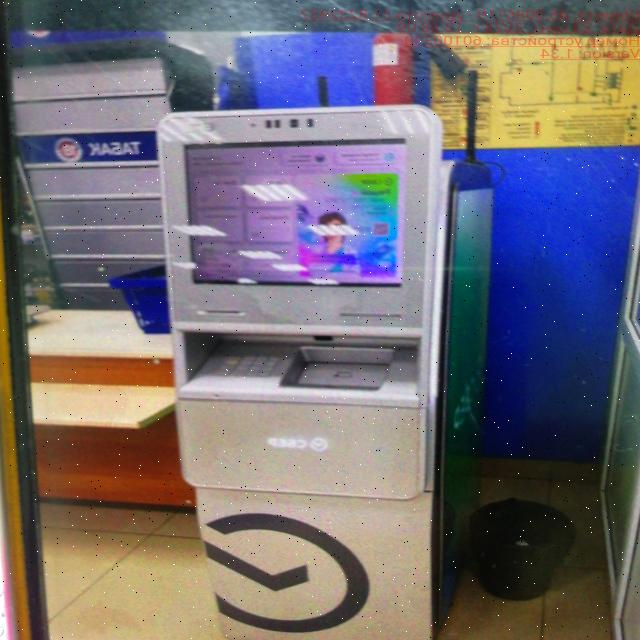bank: (155, 102, 494, 640)
